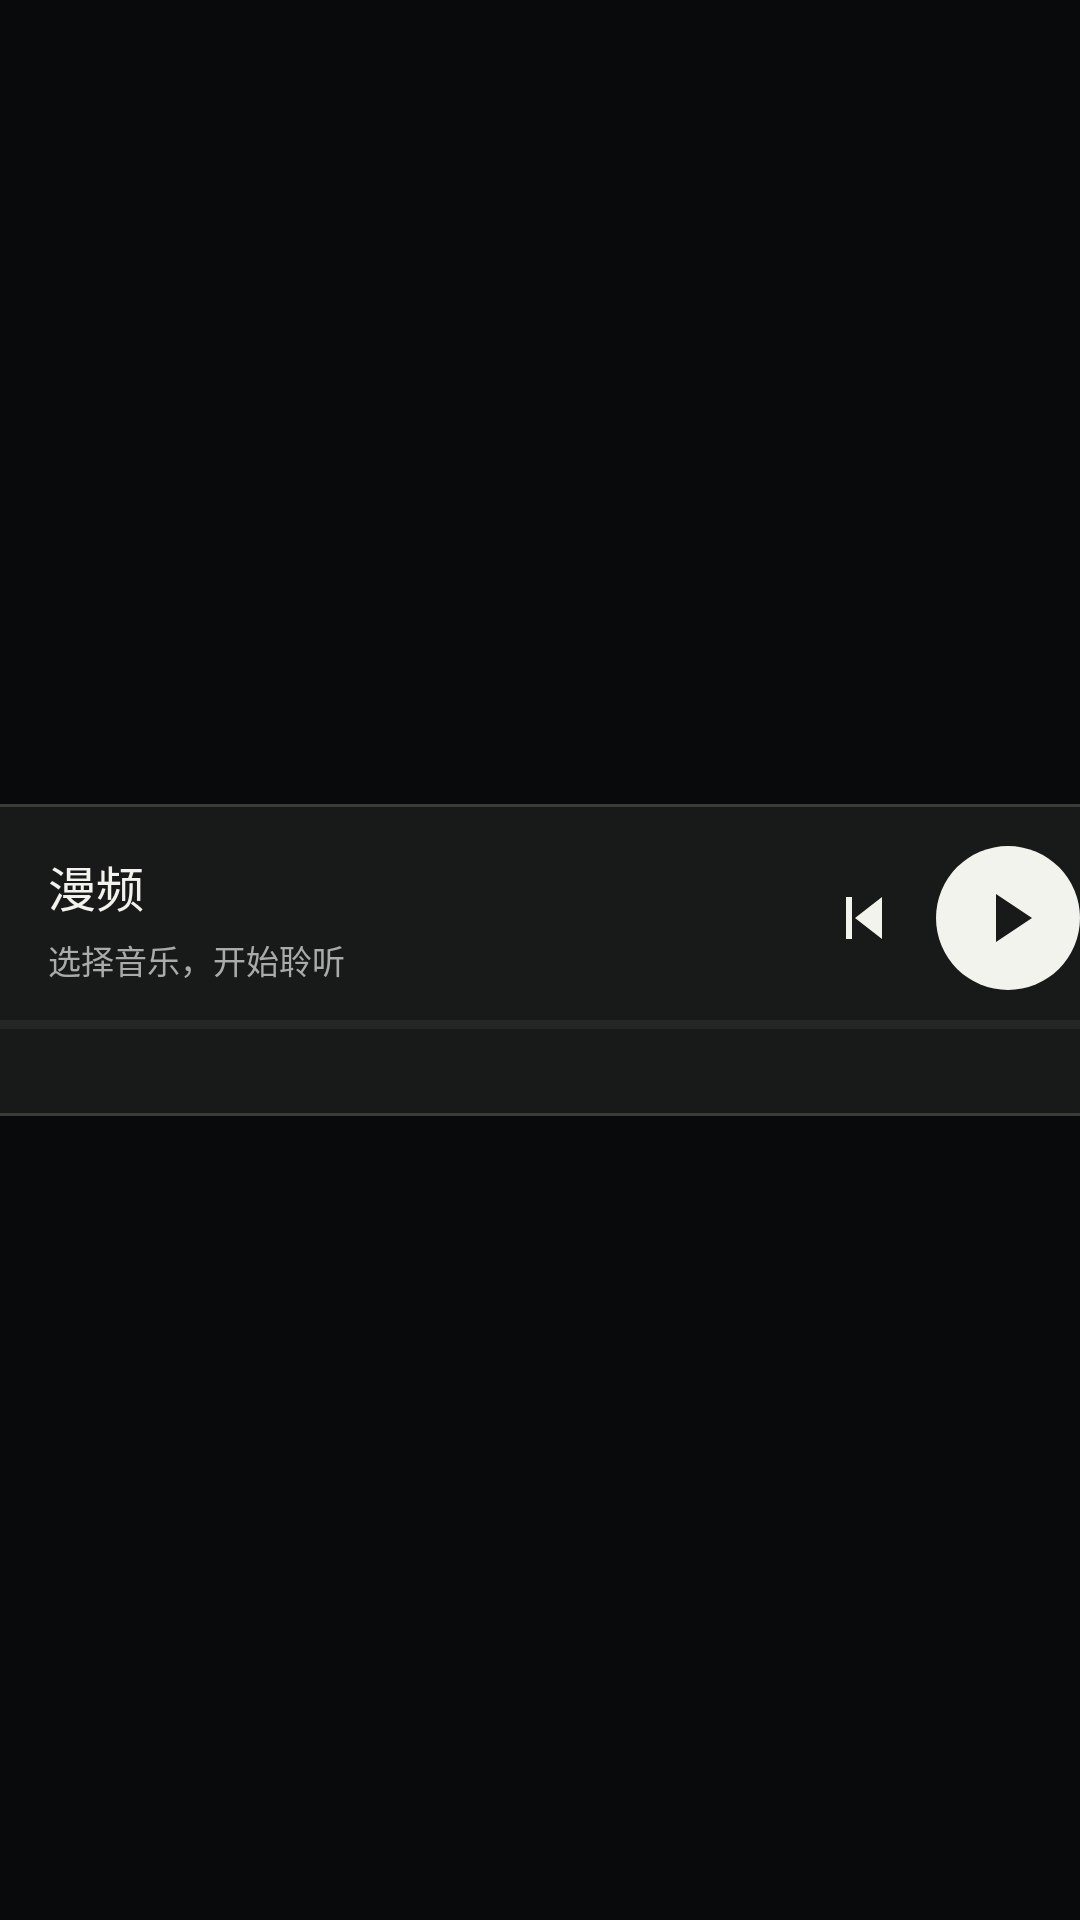

Locate icon controls on the screen. Image size 1080*1920, boxes as [x1,y1,x2,y2].
上一首: [846,897,882,939]
播放或暂停: [936,846,1080,990]
